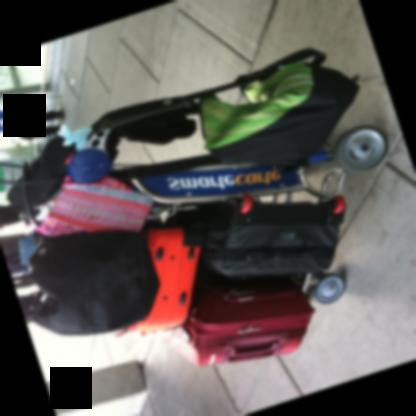backpack: (89, 45, 362, 163), (26, 229, 163, 333)
handbag: (0, 133, 79, 228)
suitcase: (186, 264, 314, 364), (203, 191, 346, 274), (117, 220, 203, 333)
